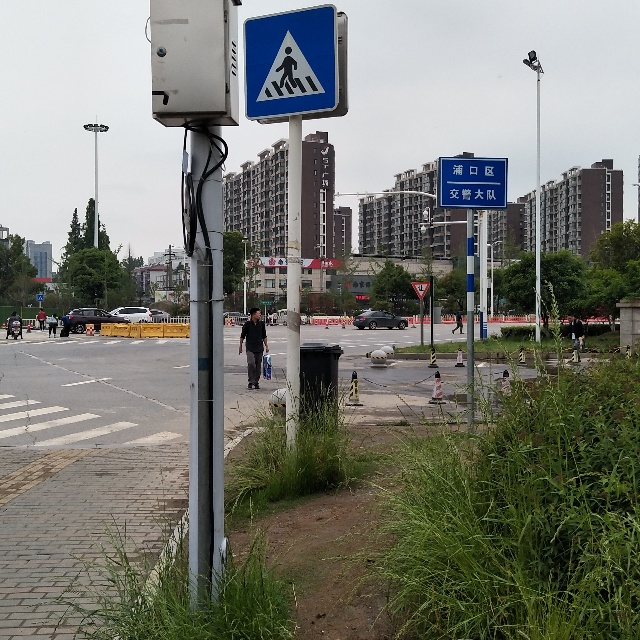crosswalk: (248, 20, 326, 109)
